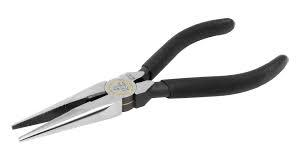pliers: (10, 16, 288, 141)
